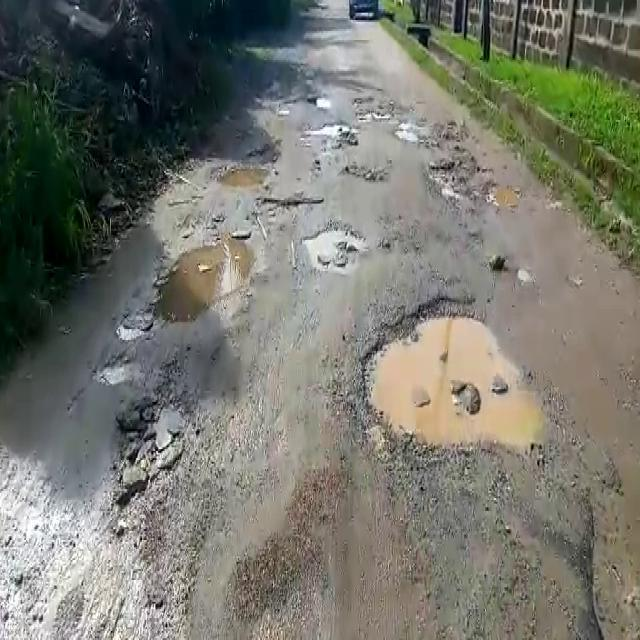pothole: (353, 290, 554, 466), (148, 233, 255, 329), (304, 222, 366, 273), (215, 164, 272, 193), (253, 193, 325, 215), (96, 355, 136, 385), (337, 164, 389, 186), (300, 121, 357, 141), (487, 180, 523, 208)
